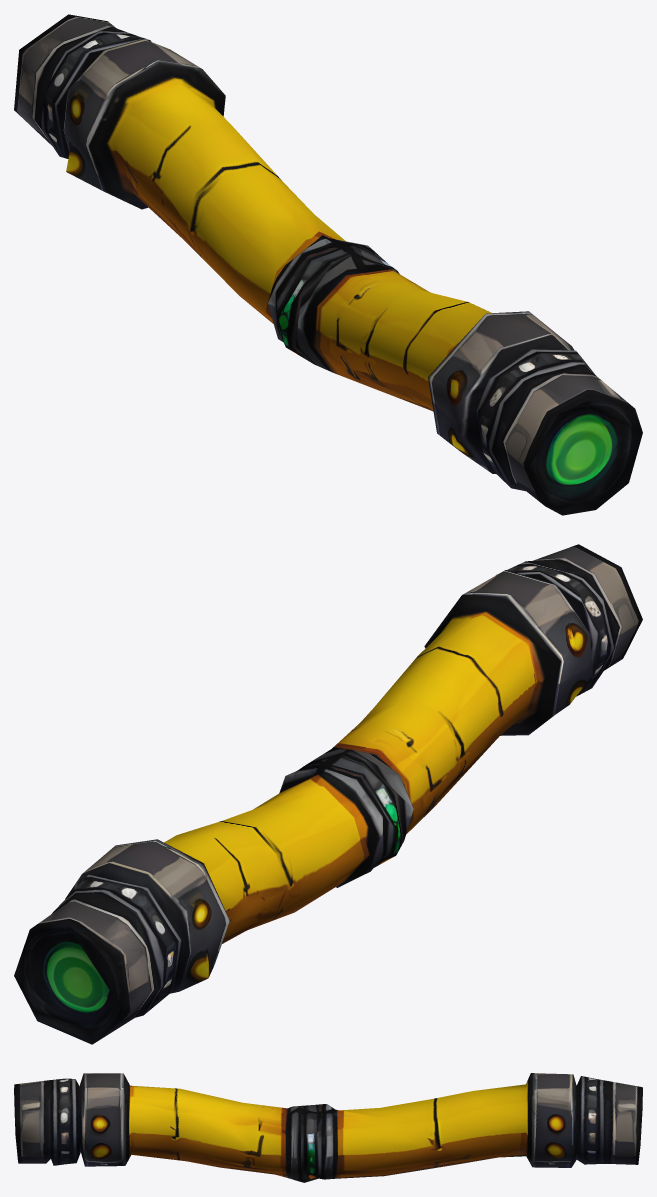
The model's file is futuristic+energy+baton+3d+model.obj.
The picture shows the model from 3 angles, top to bottom: view 1: azimuth 30°, elevation 25°; view 2: azimuth 150°, elevation 25°; view 3: azimuth 270°, elevation 25°; orthographic projection. The views are drawn at different scales.
Parts seen in each view (by area): view 1: tripo_node_f7fcffb7-e483-46e9-96b3-03ccd8c1d3b2; view 2: tripo_node_f7fcffb7-e483-46e9-96b3-03ccd8c1d3b2; view 3: tripo_node_f7fcffb7-e483-46e9-96b3-03ccd8c1d3b2.
Part boxes in pixels (x1=…): tripo_node_f7fcffb7-e483-46e9-96b3-03ccd8c1d3b2: x1=14, y1=14, x2=642, y2=515; tripo_node_f7fcffb7-e483-46e9-96b3-03ccd8c1d3b2: x1=14, y1=544, x2=642, y2=1044; tripo_node_f7fcffb7-e483-46e9-96b3-03ccd8c1d3b2: x1=14, y1=1073, x2=642, y2=1182.
Size of the model in its own units: 0.1562 by 0.1804 by 1.
Materials: 1 (1 with a texture image).
